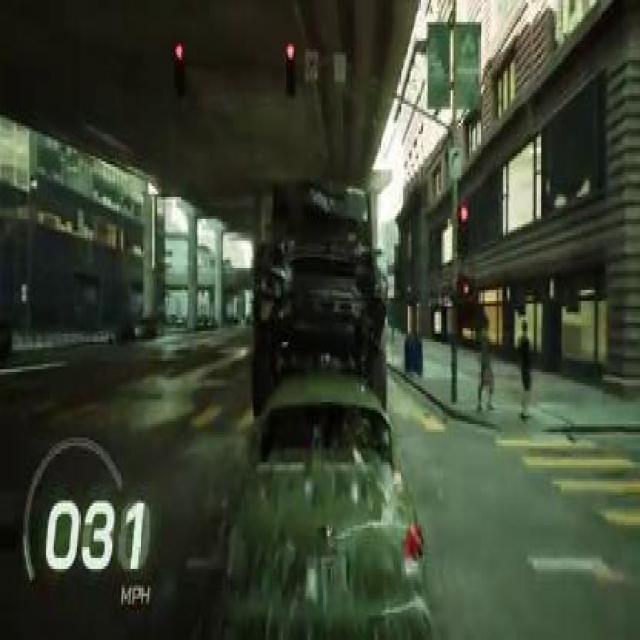accident: (218, 162, 431, 638)
